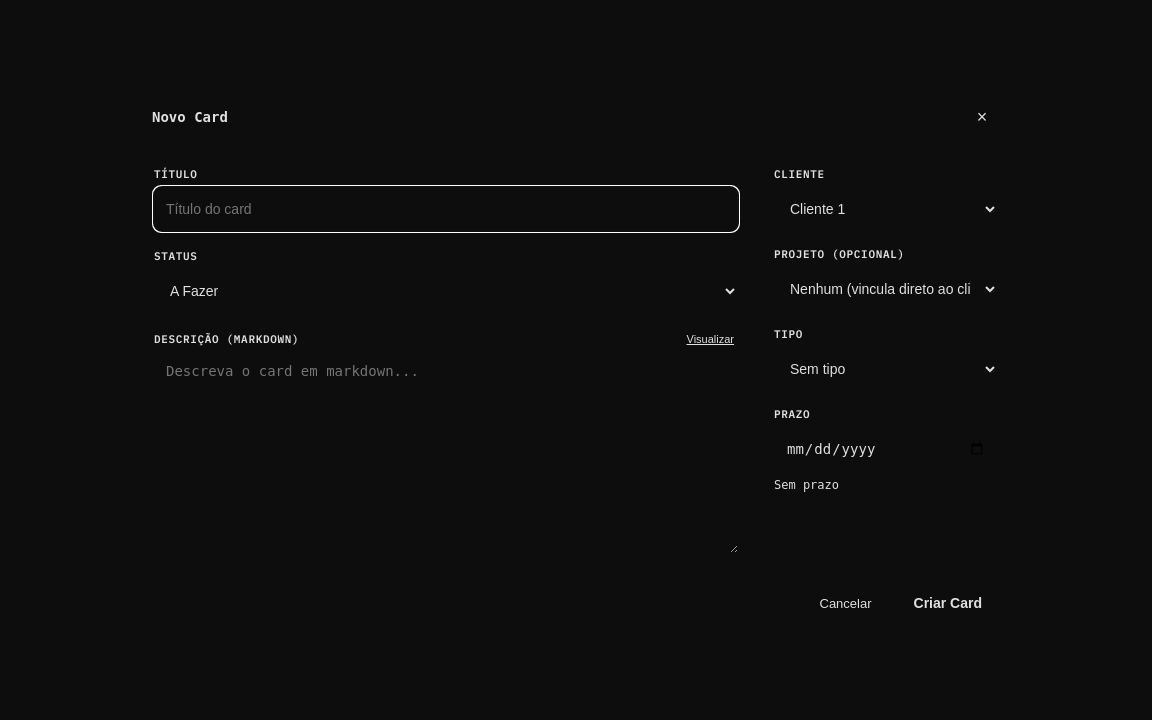
Test case: CardFormModal — mode="create" › changing the client resets the project selection
This screenshot has width=1152, height=720.
Select "Subprojeto 1" in the dropdown labelled "Projeto (opcional)" at [886, 289], box [774,267,998,311]
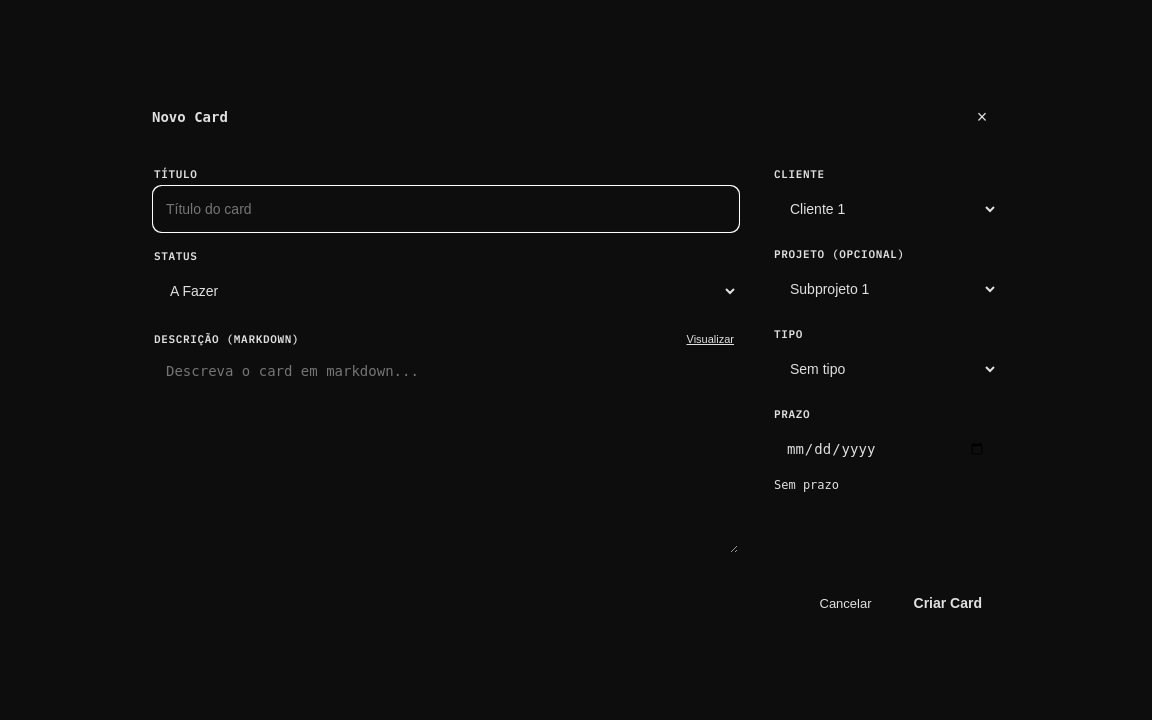
Select "Pode Subir" in the dropdown labelled "Cliente" at [886, 209], box [774,187,998,231]
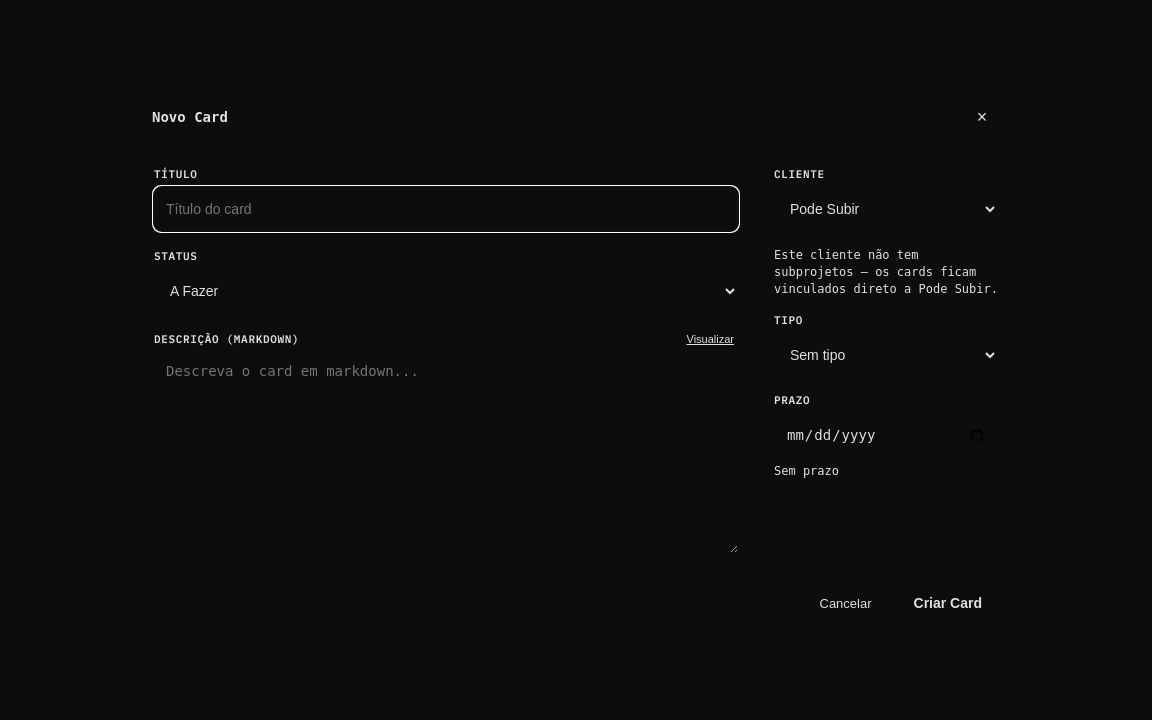
Expected: the label labelled "Projeto (opcional)" is gone
Expected: the text "não tem subprojetos" is shown, [774,248,976,296]
